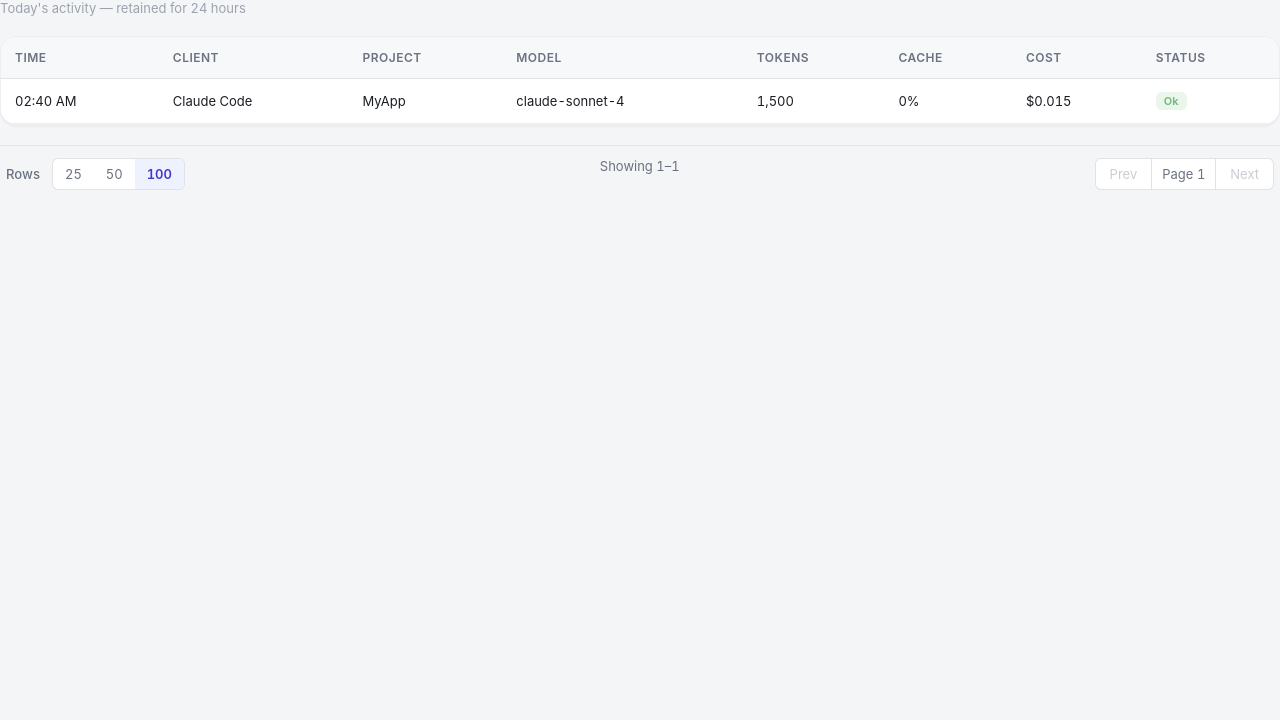
Test case: ActivityPage › opens detail drawer when a selectable row is clicked
// Click on rendered cell content to trigger row selection
Click the text "Claude Code": (254, 101) 159,78 -> 348,124
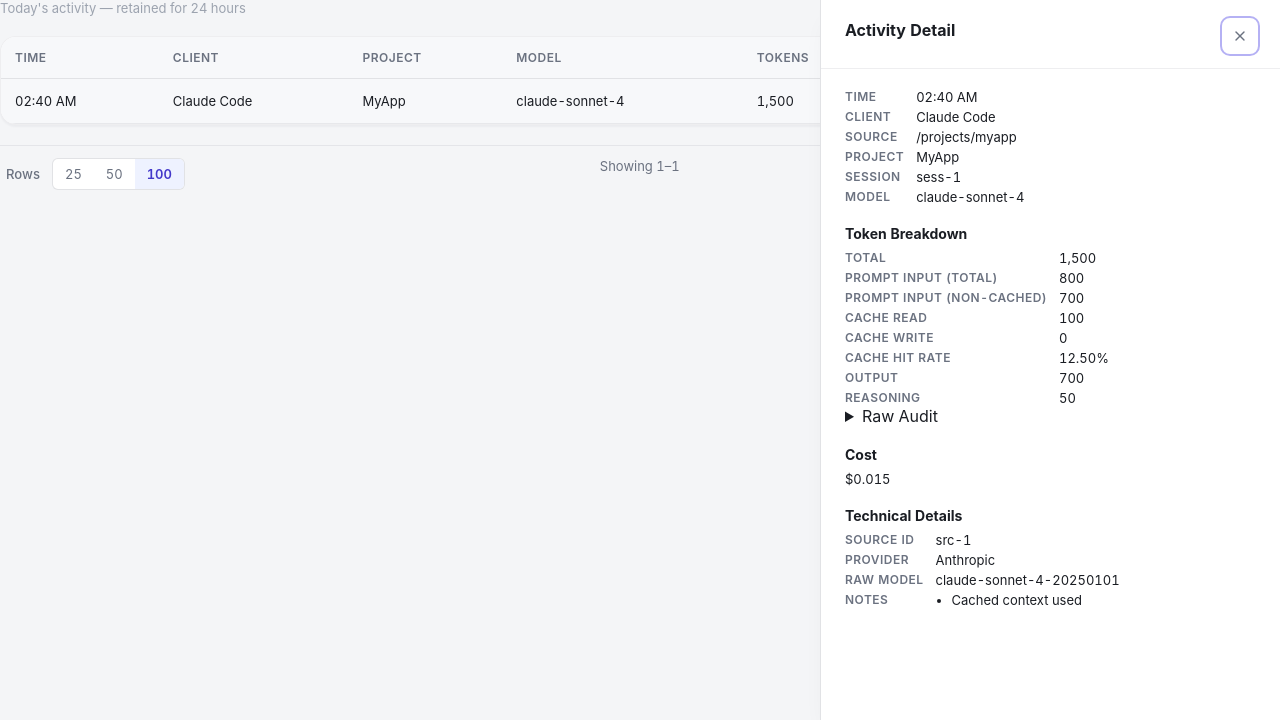
Now the heading "Activity Detail" is shown, box 845,20 -> 955,40
